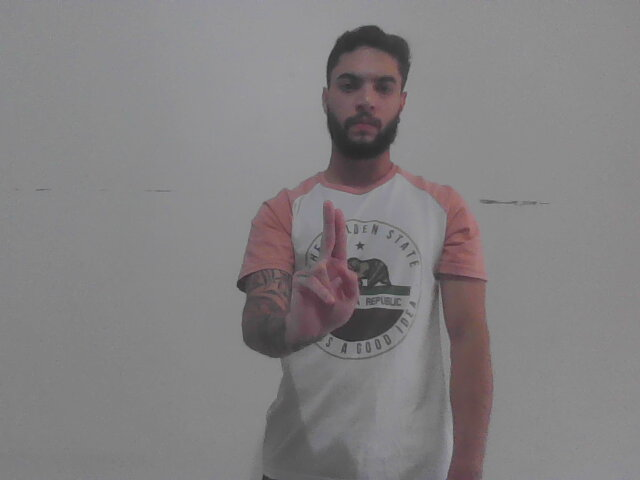u: (285, 195, 363, 348)
